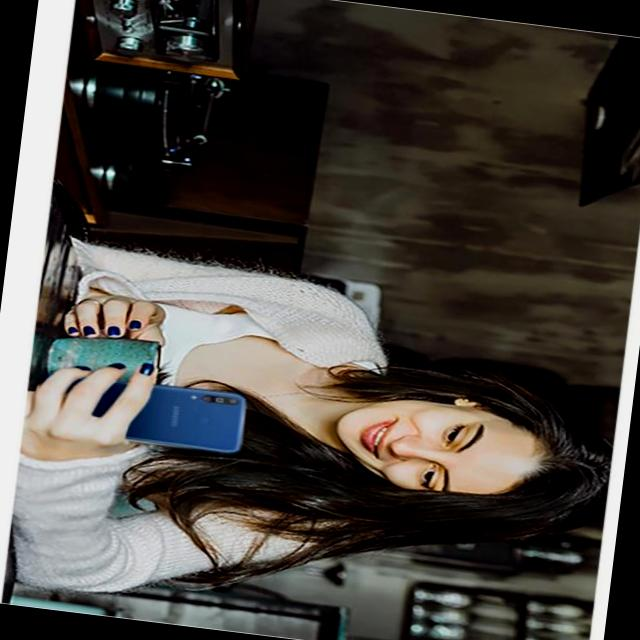lens_back: (224, 397, 240, 407), (200, 394, 212, 403), (213, 395, 224, 404)
phone: (44, 372, 246, 454)
